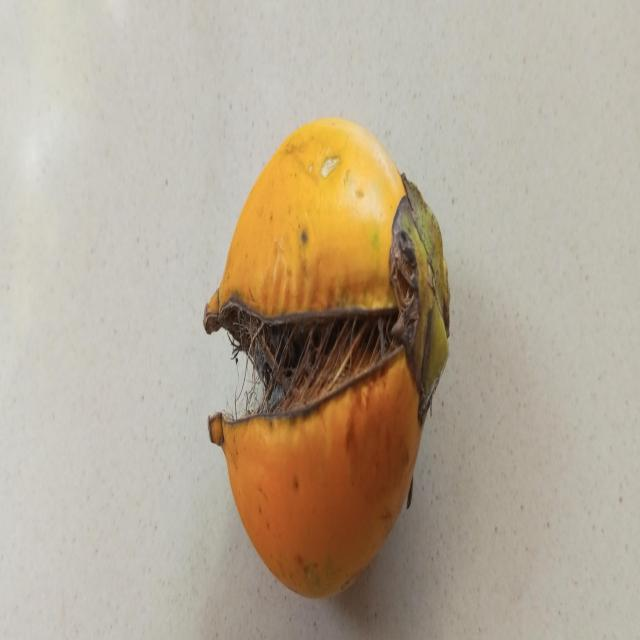damaged: (204, 118, 449, 599)
